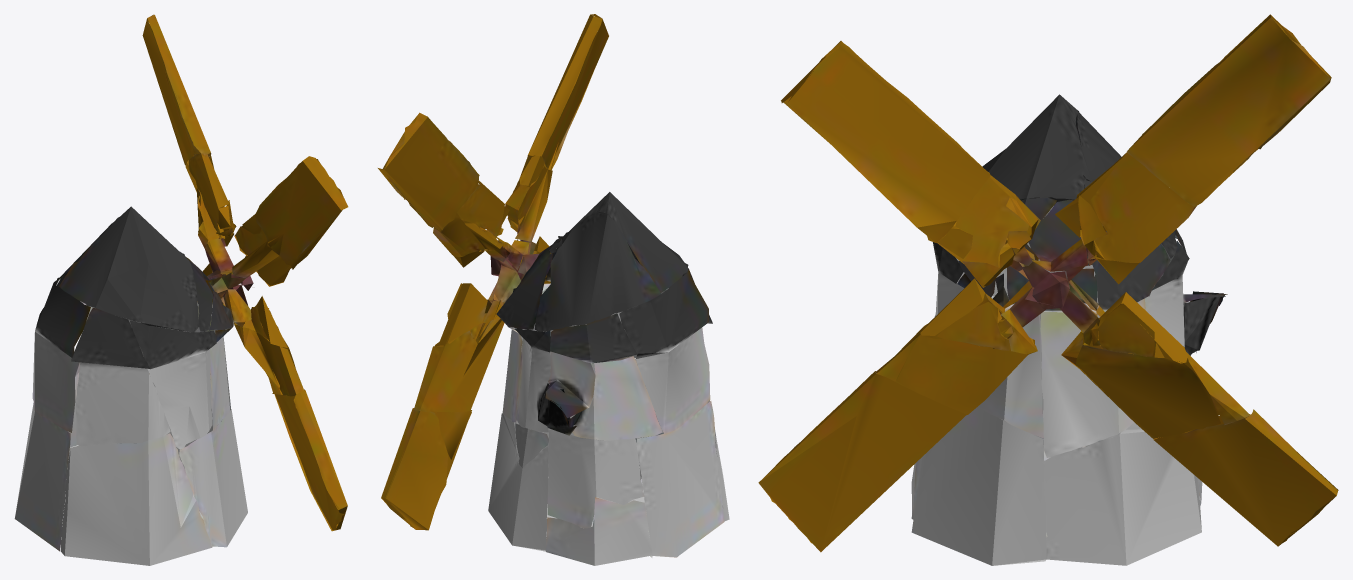
The model's file is loc_sa_bld_windmill_ai.glb.
3 renders of one model, left to right at view 1: azimuth 30°, elevation 25°; view 2: azimuth 150°, elevation 25°; view 3: azimuth 270°, elevation 25°, orthographic. The views are drawn at different scales.
Parts seen in each view (by area): view 1: tripo_node_cf73f396-23dc-4282-acaa-80df60d69a95; view 2: tripo_node_cf73f396-23dc-4282-acaa-80df60d69a95; view 3: tripo_node_cf73f396-23dc-4282-acaa-80df60d69a95.
Boxes of the visible parts, left/top/right/bottom form: tripo_node_cf73f396-23dc-4282-acaa-80df60d69a95: left=14, top=14, right=348, bottom=565; tripo_node_cf73f396-23dc-4282-acaa-80df60d69a95: left=378, top=14, right=729, bottom=565; tripo_node_cf73f396-23dc-4282-acaa-80df60d69a95: left=758, top=14, right=1338, bottom=565.
Size of the model in its own units: 1.61 by 3.01 by 2.83.
1 material, 1 textured.
